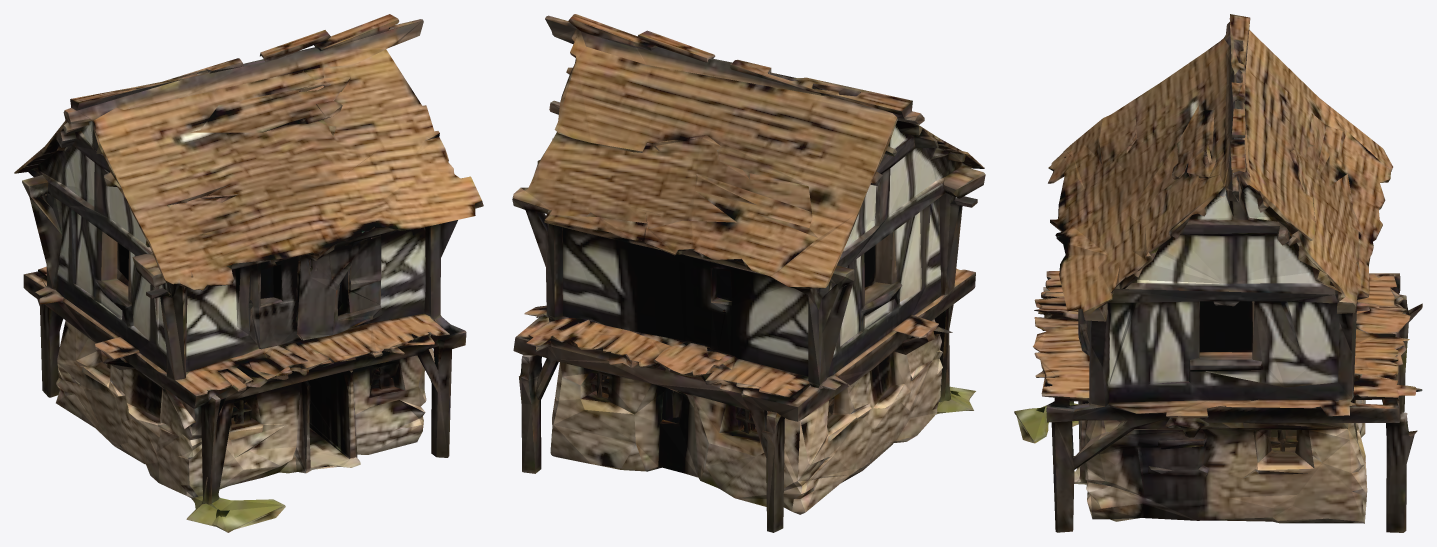
Rendered from war_barn_ruin_01.glb.
3 renders of one model, left to right at view 1: azimuth 30°, elevation 25°; view 2: azimuth 150°, elevation 25°; view 3: azimuth 270°, elevation 25°, orthographic. The views are drawn at different scales.
Visible parts, largest first — view 1: geometry_0; view 2: geometry_0; view 3: geometry_0.
Part boxes in pixels (left/top/right/bottom): geometry_0: left=14, top=14, right=483, bottom=532; geometry_0: left=512, top=14, right=985, bottom=532; geometry_0: left=1014, top=14, right=1422, bottom=532.
Size of the model in its own units: 0.9977 by 0.9941 by 0.9592.
Materials: 1 (1 with a texture image).
